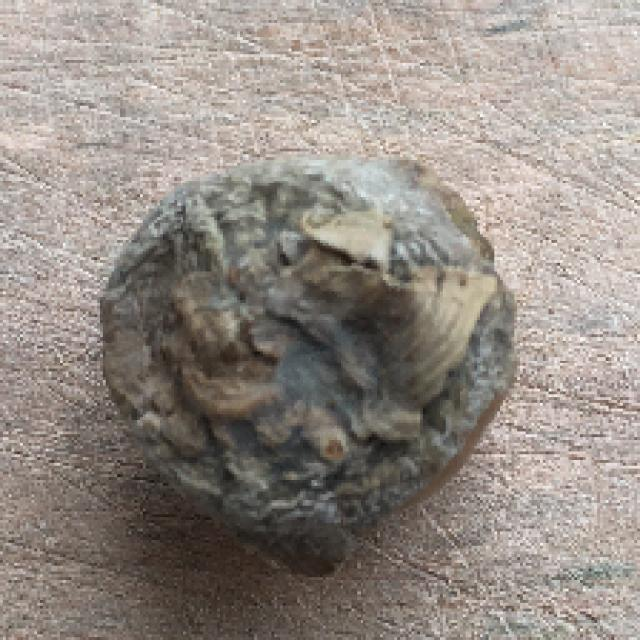damagedHazelnut: (92, 161, 520, 561)
